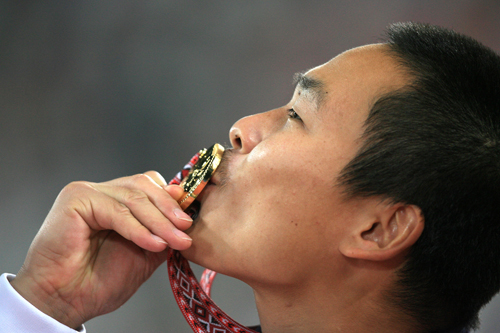face: (175, 45, 441, 261)
